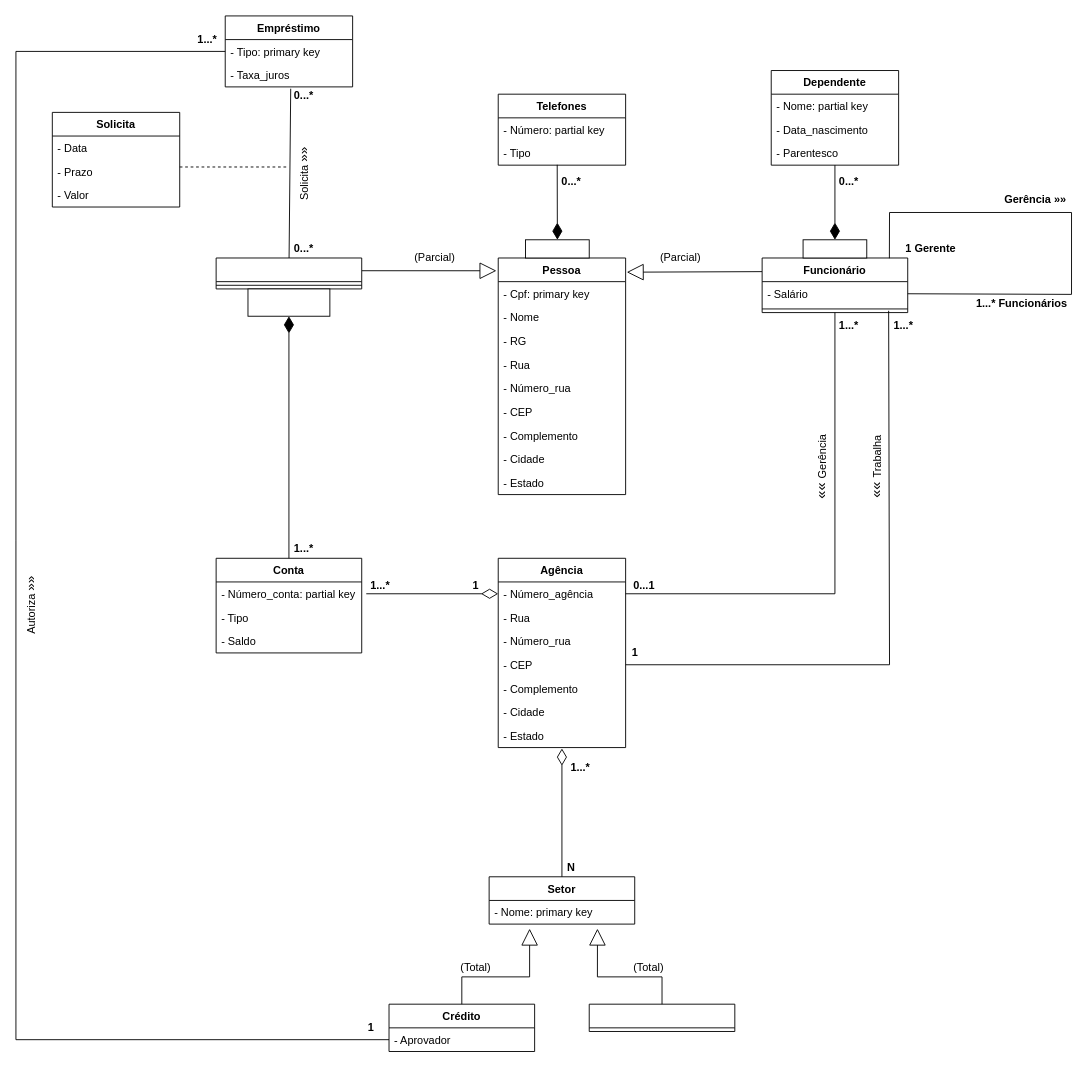
Image size: 1092x1070. Some labels were removed from this diagram. The shapes that lost their labels are listed below. From the top down, each one's centre as x and y in pixels, then its label:
At (557,248): "Número".
At (834,248): "Nome".
At (288,273): "Cliente".
At (288,302): "Número_conta".
At (661,1017): "Administrativo".
